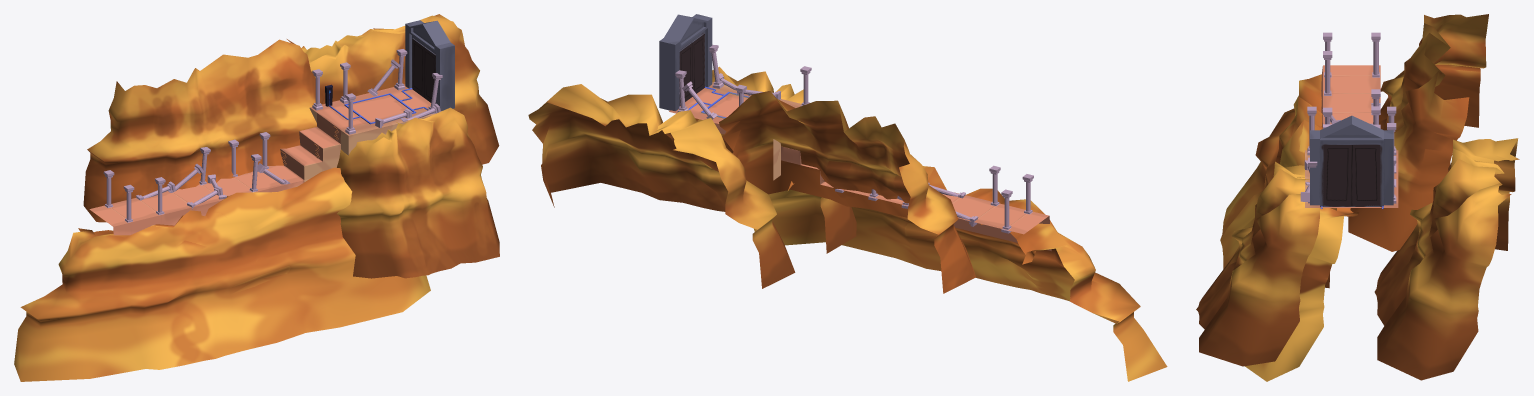
The model's file is ruin2.fbx.
3 views of the same model, side by side, from view 1: azimuth 30°, elevation 25°; view 2: azimuth 150°, elevation 25°; view 3: azimuth 270°, elevation 25° (orthographic). The views are drawn at different scales.
Visible parts, largest first — view 1: Bukit_2, Bukit_1, Bukit_4, Floor, Bukit_3, Pintu; view 2: Bukit_3, Bukit_1, Bukit_2, Floor, Pintu, Bukit_4; view 3: Bukit_3, Bukit_1, Bukit_4, Bukit_2, Pintu, Floor, Cube.039, Cube.037.
Part boxes in pixels (box(x1,y1,x2,y2)): Bukit_2: box(14, 167, 430, 381); Bukit_1: box(83, 39, 325, 222); Bukit_4: box(337, 107, 499, 278); Floor: box(89, 84, 441, 235); Bukit_3: box(301, 14, 499, 164); Pintu: box(405, 20, 454, 110); Bukit_3: box(528, 84, 795, 288); Bukit_1: box(719, 91, 975, 293); Bukit_2: box(754, 166, 1167, 381); Floor: box(669, 82, 1051, 251); Pintu: box(659, 14, 712, 111); Bukit_4: box(695, 66, 856, 253); Bukit_3: box(1374, 138, 1519, 380); Bukit_1: box(1348, 14, 1488, 251); Bukit_4: box(1196, 161, 1336, 366); Bukit_2: box(1220, 74, 1382, 381); Pintu: box(1310, 115, 1393, 206); Floor: box(1305, 65, 1398, 207); Cube.039: box(1371, 32, 1380, 77); Cube.037: box(1323, 51, 1332, 95).
Size of the model in its own units: 20414 by 8893 by 8977.
Materials: 9 (8 with a texture image).
